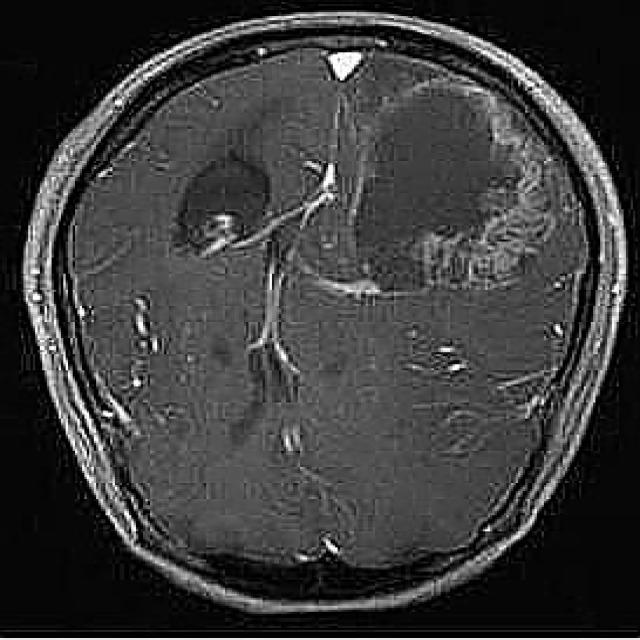Tumor-Cell: (298, 41, 374, 87)
